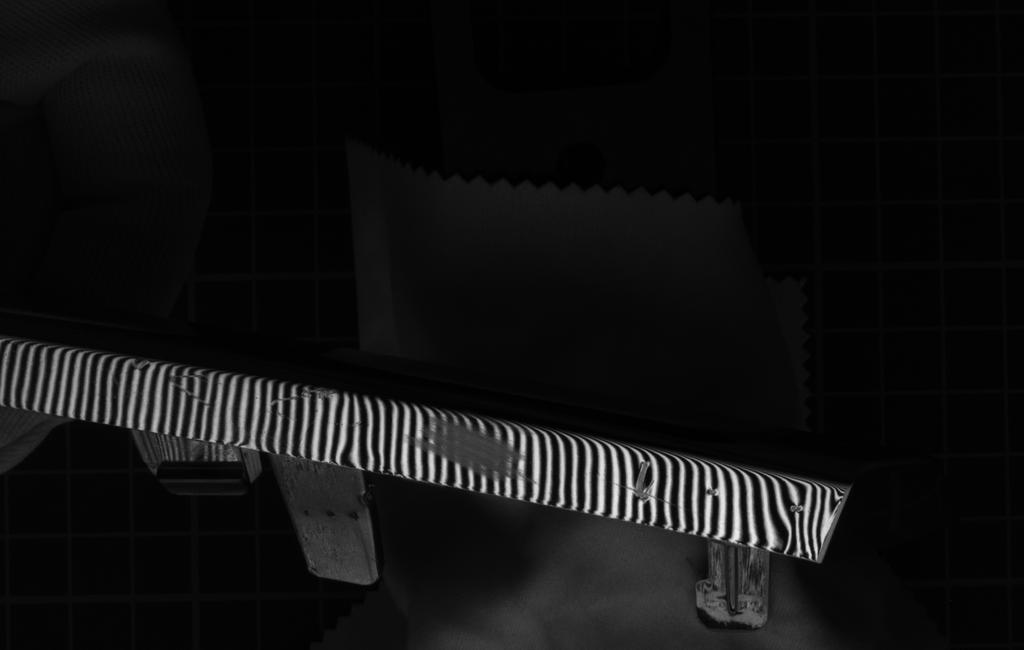Pierced: (785, 495, 813, 523), (696, 480, 724, 501), (129, 354, 153, 378)
Pitting: (399, 403, 537, 490)
Scratch: (158, 362, 228, 419), (260, 382, 342, 429), (622, 452, 658, 505)
